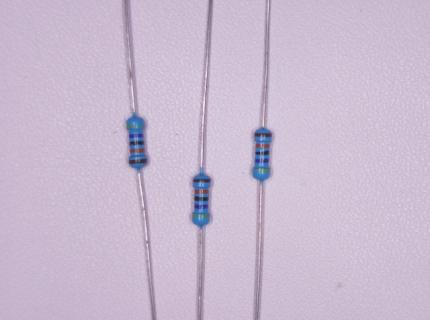Black band: (194, 196, 208, 201), (255, 151, 269, 155), (130, 141, 144, 145)
Brown band: (129, 158, 148, 164), (255, 133, 271, 138), (193, 179, 210, 182)
Orange band: (130, 149, 145, 153), (195, 190, 209, 194), (256, 144, 269, 148)
Violet band: (195, 204, 208, 209), (129, 134, 144, 138), (255, 159, 269, 163)
Yellow band: (127, 125, 145, 129), (192, 214, 210, 218), (253, 168, 270, 172)
